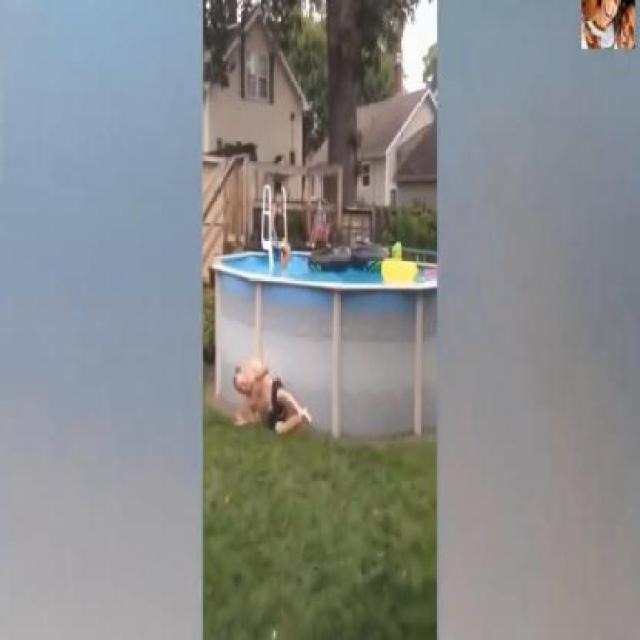fall: (231, 349, 311, 438)
